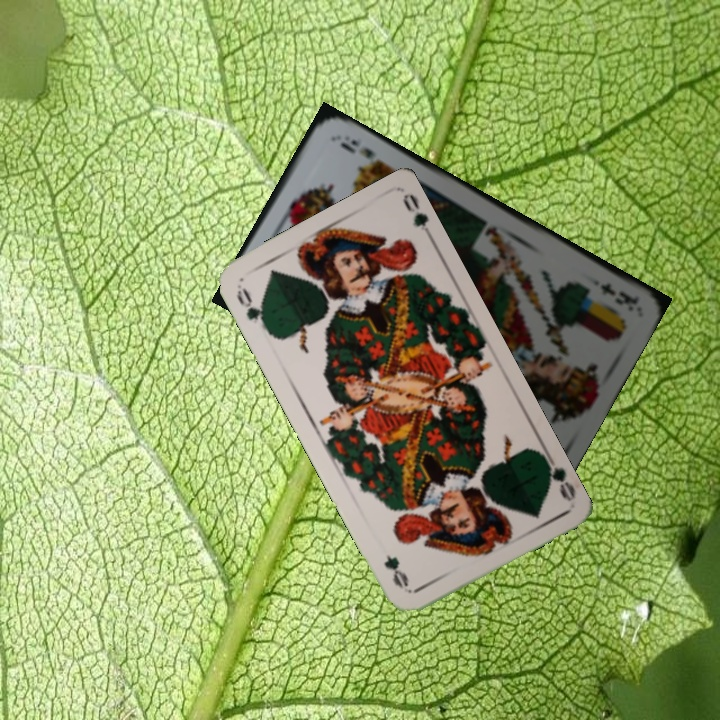EK: (596, 279, 642, 308)
GO: (537, 447, 578, 503), (232, 283, 272, 335)
